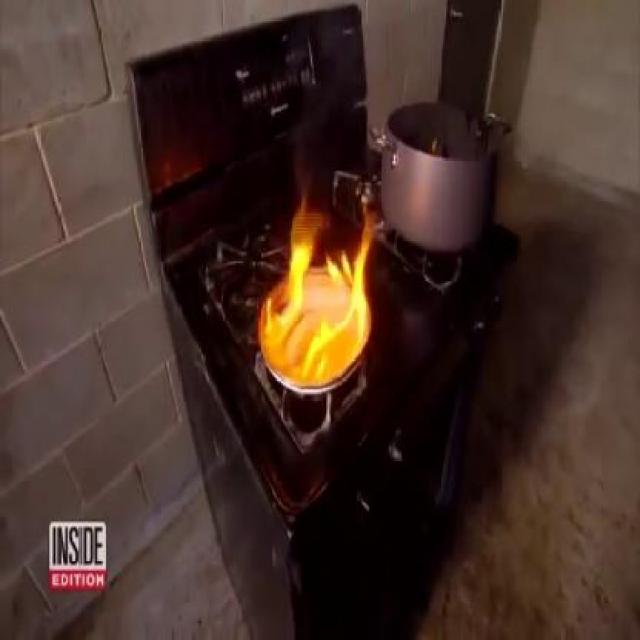fire: (255, 208, 393, 409)
